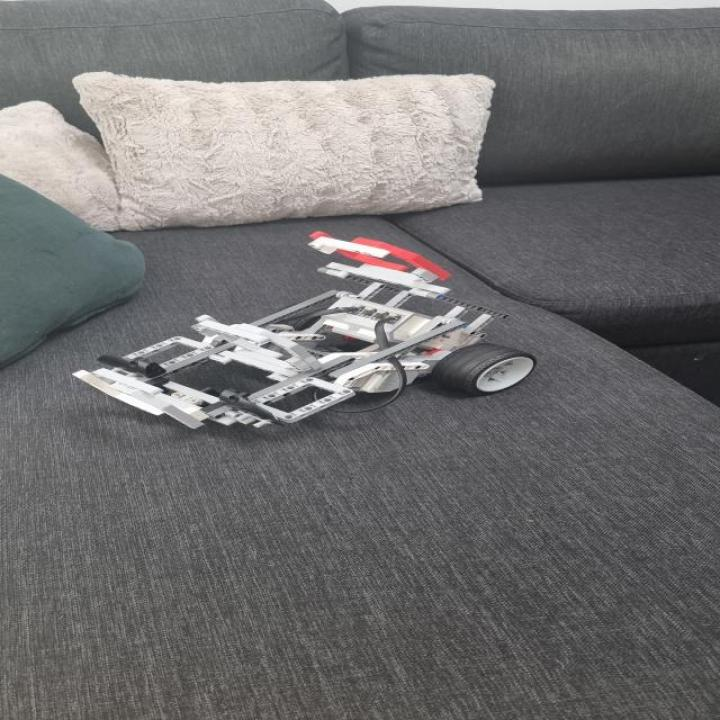robot: (70, 230, 541, 430)
